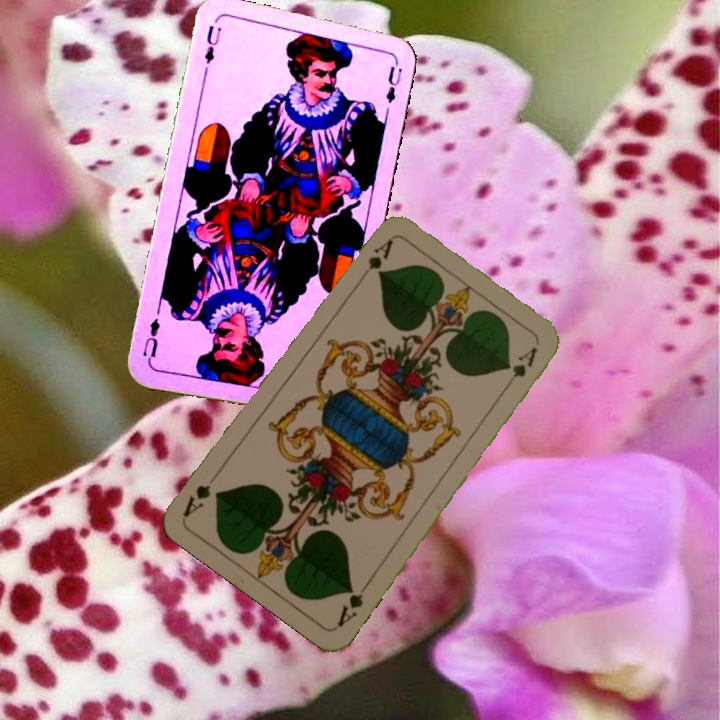EU: (198, 21, 224, 67)
GA: (333, 578, 372, 630), (364, 235, 396, 273)
